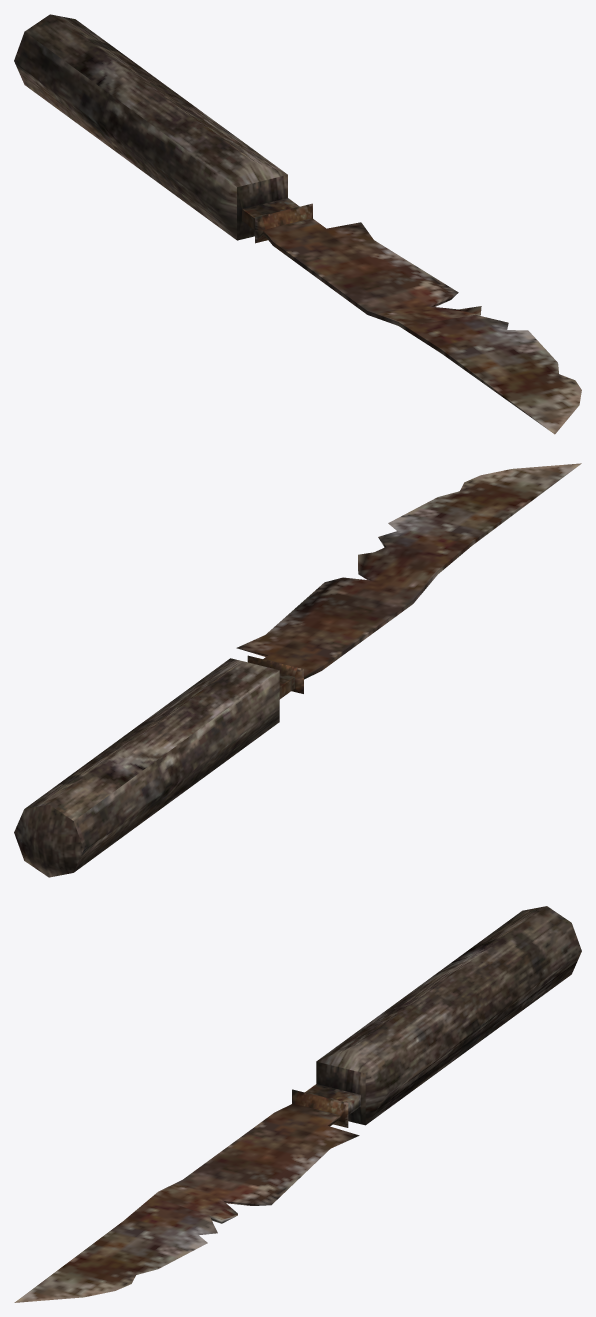
The model's file is butcher_knife.dae.
3 views of the same model, one above another, from view 1: azimuth 30°, elevation 25°; view 2: azimuth 150°, elevation 25°; view 3: azimuth 330°, elevation 25° (orthographic). The views are drawn at different scales.
Visible parts, largest first — view 1: polySurface1; view 2: polySurface1; view 3: polySurface1.
Part boxes in pixels (box(x1,y1,x2,y2)): polySurface1: box(14, 14, 581, 434); polySurface1: box(14, 463, 581, 877); polySurface1: box(14, 906, 581, 1302).
Size of the model in its own units: 0.045 by 0.0323 by 0.4164.
